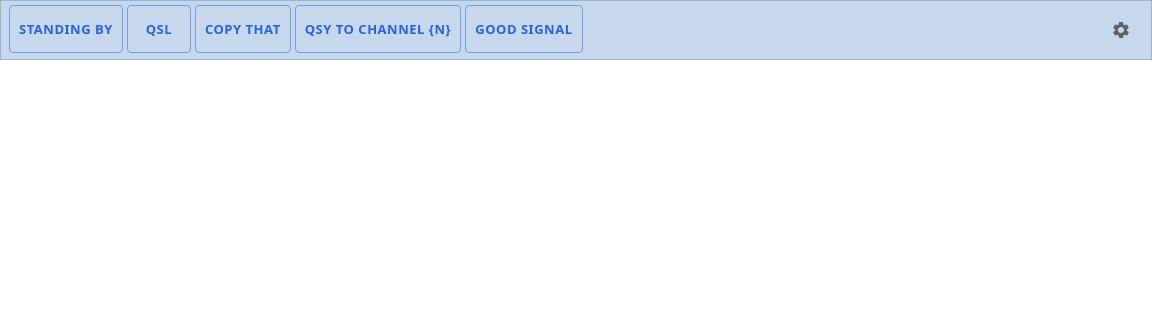
Test: QuickMessages › edit mode › adds phrase on Enter key press in input
Click the button named "edit quick messages" at (1121, 30), box [1099,8,1143,52]
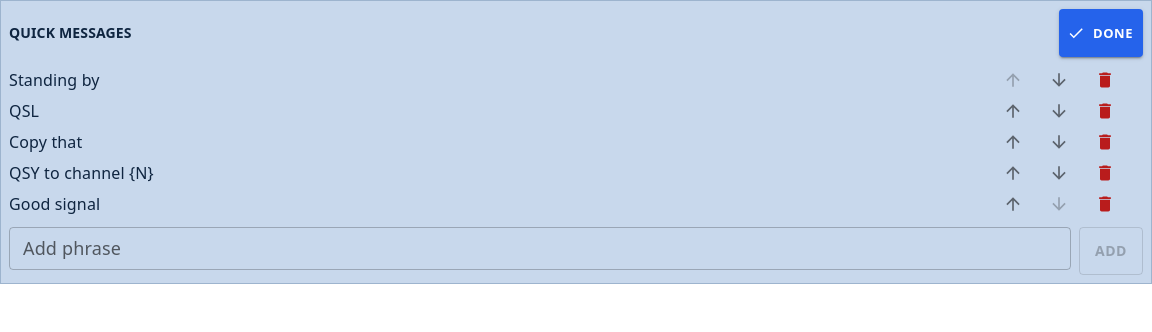
Type "Enter phrase" into the field labelled "Add phrase" at (540, 249), box [9,227,1071,270]
Then press Enter
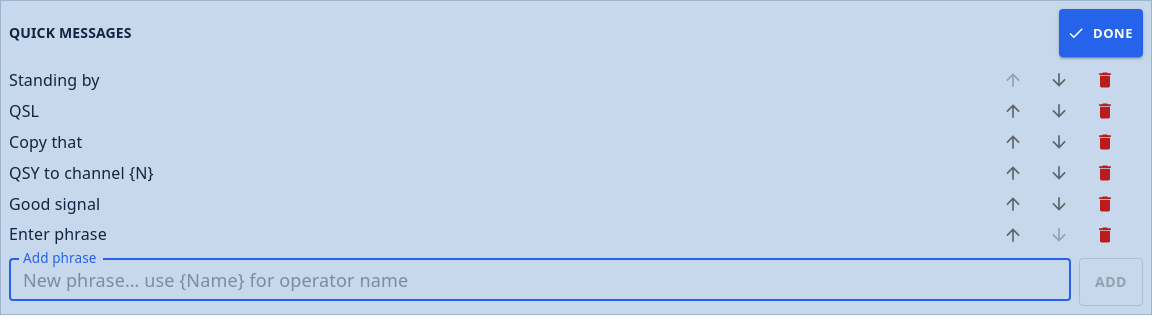
Check: the text "Enter phrase" is shown, box [9,223,107,245]
